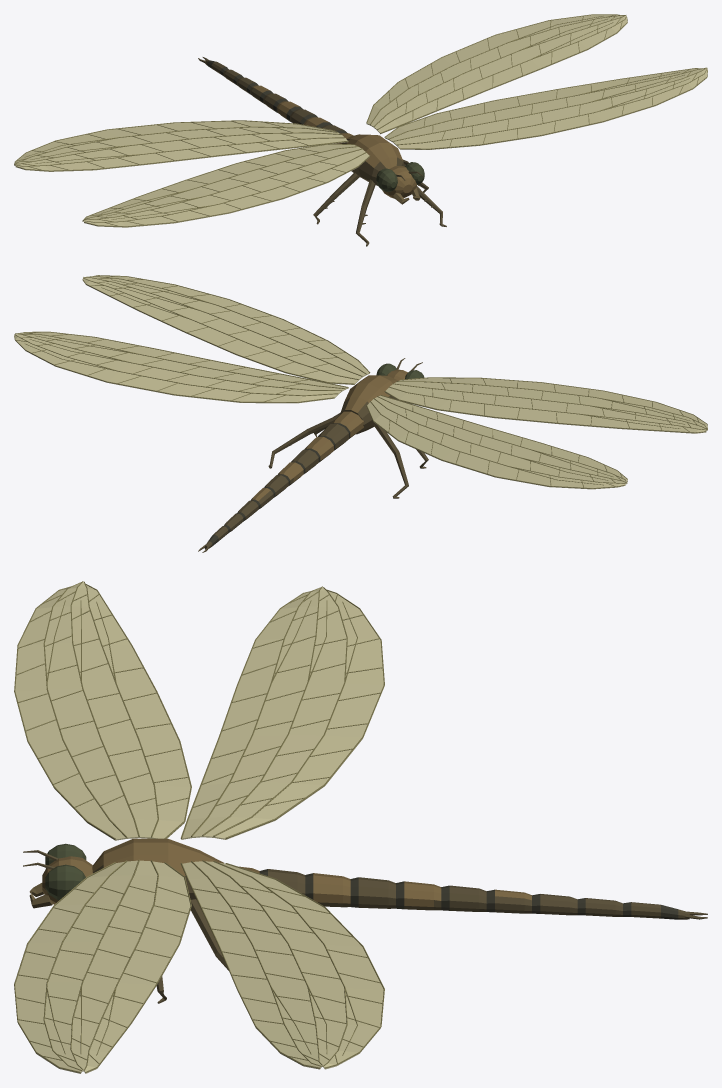
3 views of the same model, one above another, from view 1: azimuth 30°, elevation 25°; view 2: azimuth 150°, elevation 25°; view 3: azimuth 270°, elevation 25° (orthographic). The views are drawn at different scales.
Parts seen in each view (by area): view 1: forewing-membrane-right, hindwing-membrane-right, forewing-membrane-left, hindwing-membrane-left, hindwing-simplified-veins-left, forewing-simplified-veins-left, forewing-simplified-veins-right, hindwing-simplified-veins-right, abdomen-ten-segments, thorax-flight-musculature, head-rounded-predatory, eye-left (+2 smaller); view 2: forewing-membrane-right, hindwing-membrane-right, forewing-membrane-left, hindwing-membrane-left, hindwing-simplified-veins-right, abdomen-ten-segments, forewing-simplified-veins-right, forewing-simplified-veins-left, hindwing-simplified-veins-left, thorax-flight-musculature, leg-3-right, leg-3-left; view 3: forewing-membrane-left, hindwing-membrane-left, forewing-membrane-right, hindwing-membrane-right, abdomen-ten-segments, hindwing-simplified-veins-left, hindwing-simplified-veins-right, forewing-simplified-veins-left, forewing-simplified-veins-right, thorax-flight-musculature, eye-right.
Boxes of the visible parts, box(x1,y1,x2,y2) form: forewing-membrane-right: box(385, 68, 707, 149); hindwing-membrane-right: box(366, 15, 627, 134); forewing-membrane-left: box(82, 144, 369, 227); hindwing-membrane-left: box(14, 121, 348, 171); hindwing-simplified-veins-left: box(14, 120, 348, 171); forewing-simplified-veins-left: box(82, 143, 370, 226); forewing-simplified-veins-right: box(384, 67, 707, 149); hindwing-simplified-veins-right: box(366, 14, 627, 133); abdomen-ten-segments: box(205, 59, 353, 143); thorax-flight-musculature: box(341, 134, 404, 185); head-rounded-predatory: box(382, 166, 416, 198); eye-left: box(376, 168, 397, 191); forewing-membrane-right: box(83, 275, 369, 384); hindwing-membrane-right: box(14, 332, 348, 403); forewing-membrane-left: box(385, 378, 707, 433); hindwing-membrane-left: box(367, 395, 627, 489); hindwing-simplified-veins-right: box(14, 331, 348, 402); abdomen-ten-segments: box(204, 411, 363, 549); forewing-simplified-veins-right: box(82, 275, 370, 384); forewing-simplified-veins-left: box(384, 377, 707, 432); hindwing-simplified-veins-left: box(366, 395, 627, 488); thorax-flight-musculature: box(340, 375, 397, 434); leg-3-right: box(268, 414, 339, 468); leg-3-left: box(374, 423, 408, 498); forewing-membrane-left: box(15, 582, 190, 840); hindwing-membrane-left: box(181, 587, 383, 839); forewing-membrane-right: box(15, 860, 190, 1073); hindwing-membrane-right: box(182, 861, 383, 1069); abdomen-ten-segments: box(239, 866, 689, 919); hindwing-simplified-veins-left: box(180, 586, 384, 838); hindwing-simplified-veins-right: box(180, 860, 384, 1068); forewing-simplified-veins-left: box(14, 581, 191, 839); forewing-simplified-veins-right: box(14, 859, 191, 1072); thorax-flight-musculature: box(92, 838, 224, 899); eye-right: box(45, 864, 85, 900).
Size of the model in its own units: 0.7005 by 0.0911 by 0.4204.
